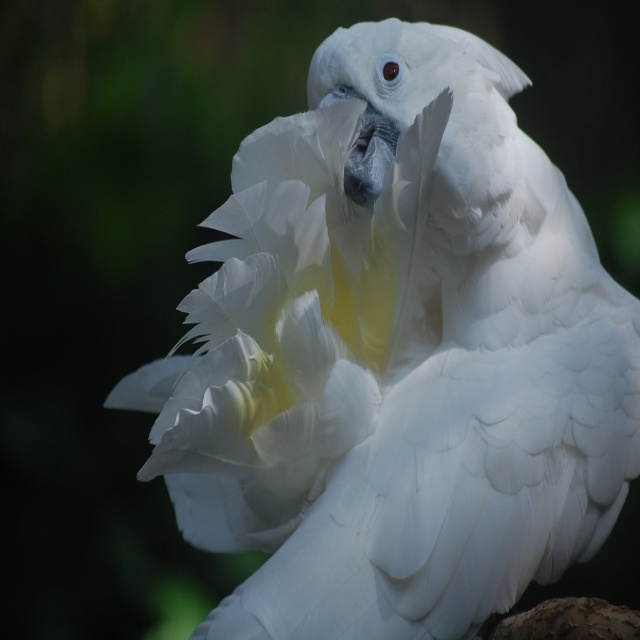Parrot: (104, 18, 640, 640)
